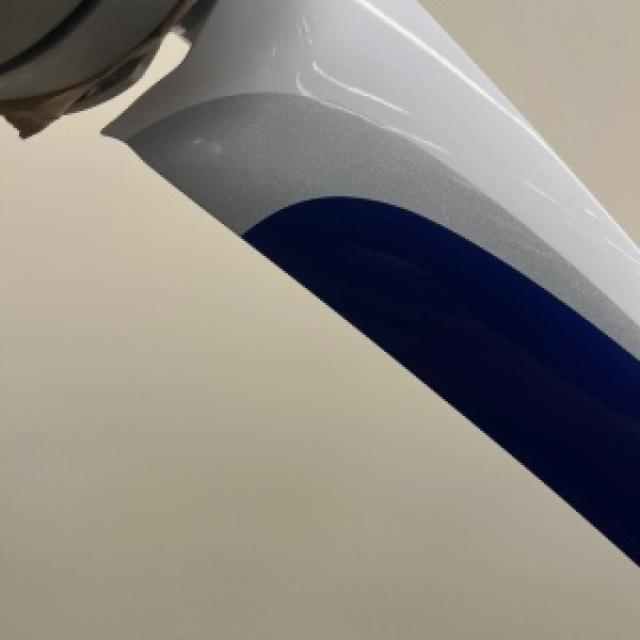healthy: (0, 83, 638, 638)
